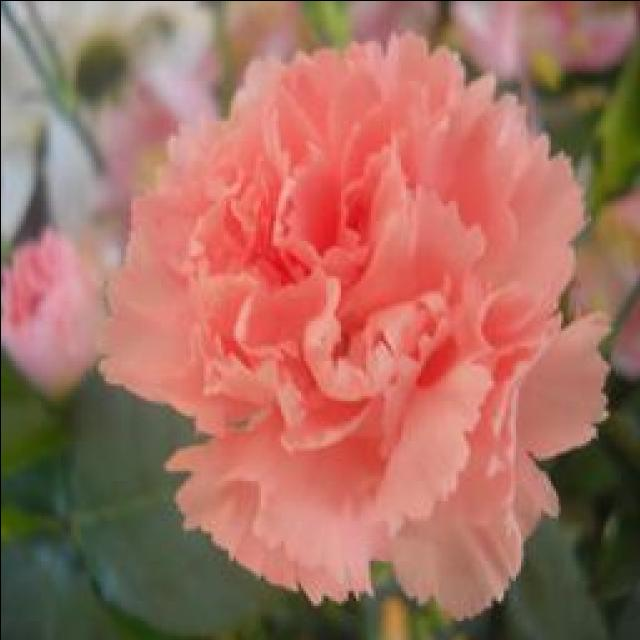carnation: (93, 46, 603, 602)
